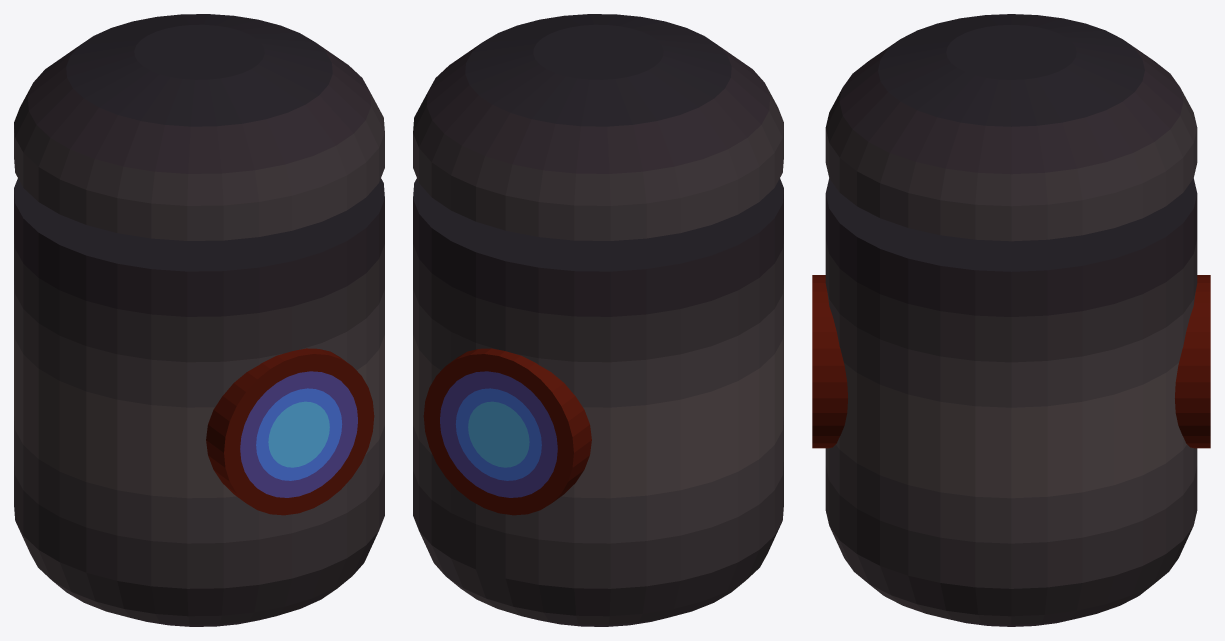
The model's file is placeholder_high.gltf.
3 renders of one model, left to right at view 1: azimuth 30°, elevation 25°; view 2: azimuth 150°, elevation 25°; view 3: azimuth 270°, elevation 25°, orthographic.
Visible parts, largest first — view 1: Cylinder.002; view 2: Cylinder.002; view 3: Cylinder.002.
Boxes of the visible parts, left/top/right/bottom form: Cylinder.002: left=14, top=14, right=384, bottom=626; Cylinder.002: left=413, top=14, right=783, bottom=626; Cylinder.002: left=812, top=14, right=1210, bottom=626.
Bounding box in the file's own units: 2 × 3.21 × 2.14.
